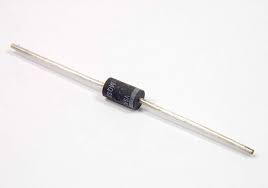diode: (59, 62, 171, 127)
